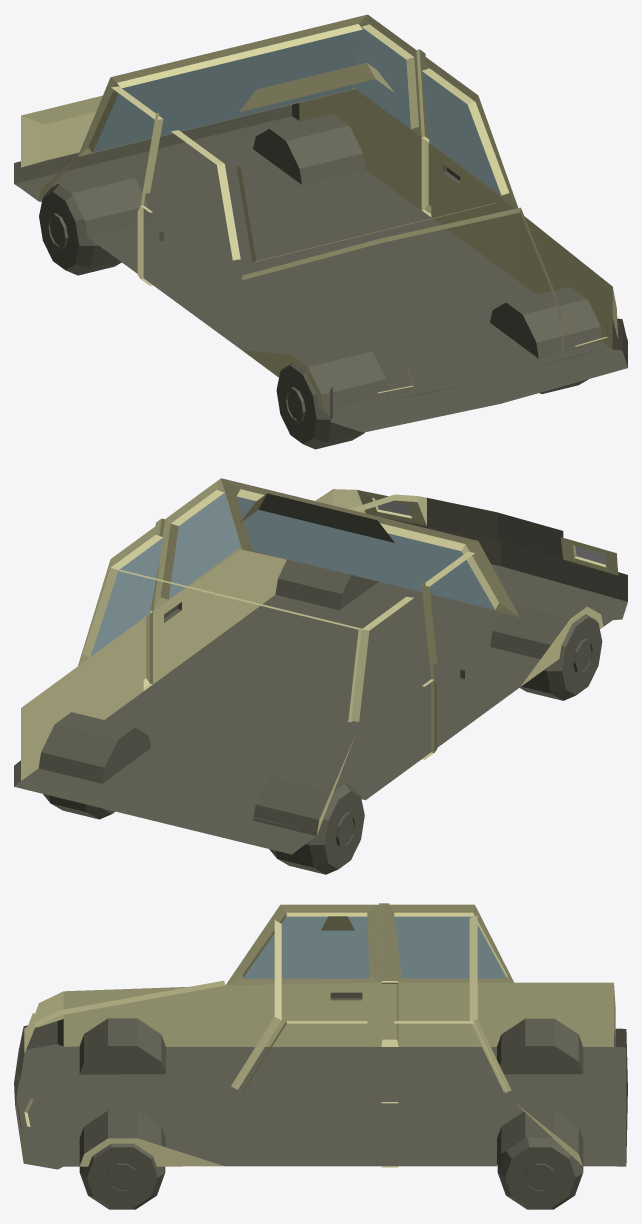
The model's file is Taxi.glb.
3 views of the same model, one above another, from view 1: azimuth 30°, elevation 25°; view 2: azimuth 150°, elevation 25°; view 3: azimuth 270°, elevation 25° (orthographic). The views are drawn at different scales.
Parts seen in each view (by area): view 1: Taxi.obj; view 2: Taxi.obj; view 3: Taxi.obj.
Part boxes in pixels (box(x1,y1,x2,y2)): Taxi.obj: box(14, 14, 627, 449); Taxi.obj: box(14, 478, 627, 874); Taxi.obj: box(14, 903, 627, 1209).
Size of the model in its own units: 1.84 by 1.45 by 3.79.
